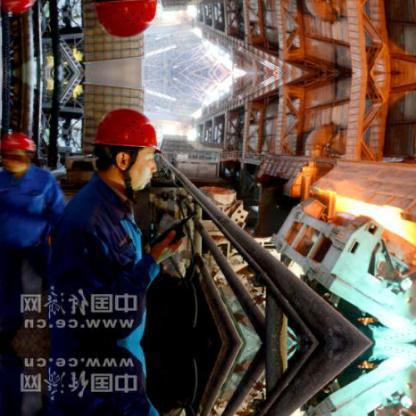helmet: (91, 100, 165, 189), (90, 0, 165, 43), (3, 131, 37, 170), (2, 0, 37, 12)
